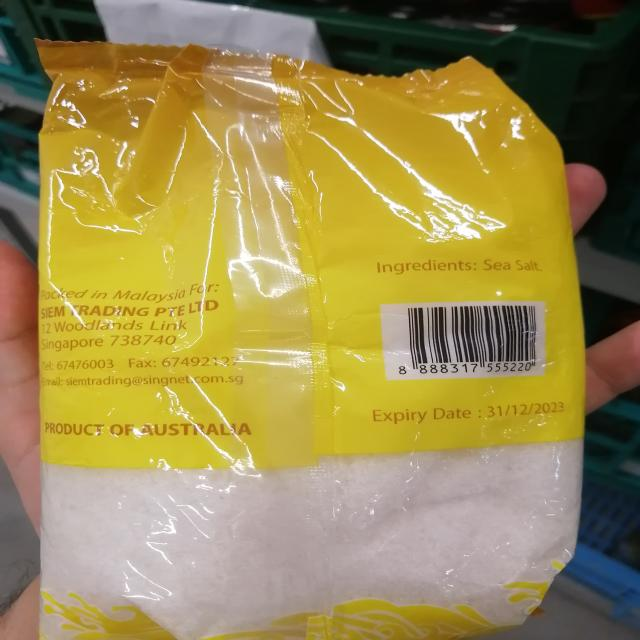object_name: (47, 59, 565, 636)
